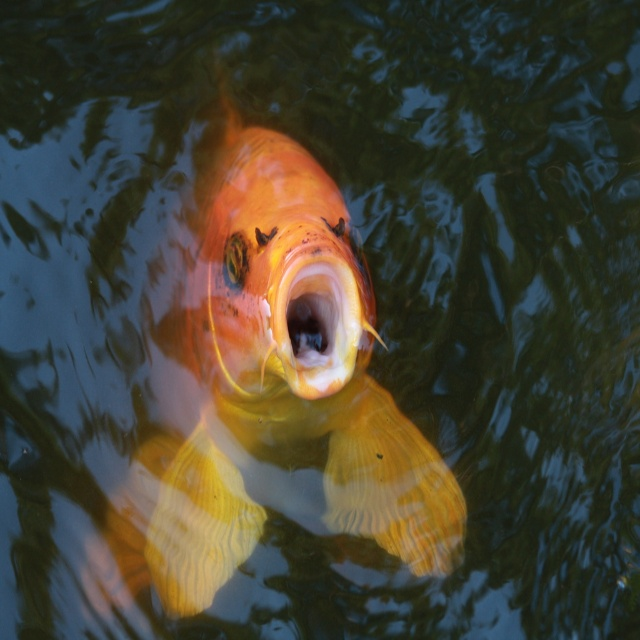Goldfish: (88, 55, 467, 623)
